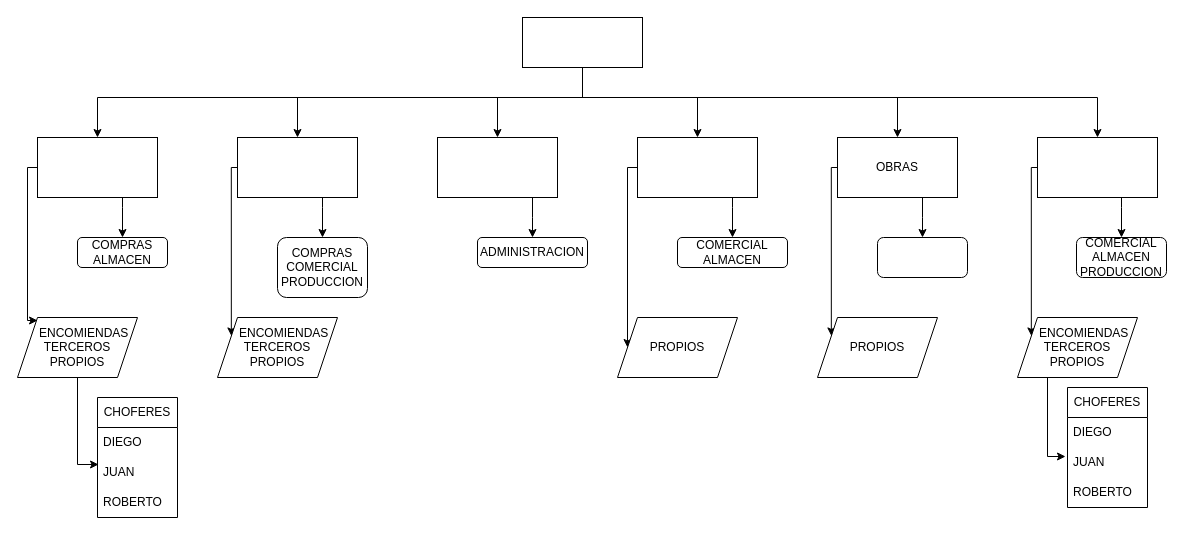
Some shapes in this 1184 by 535 pixel diagram are drawn without their labels. Each missing label, with the centre of its shape:
ADMINISTACION: the point at 497,167
COMERCIALES: the point at 697,167
DESPACHOS: the point at 1097,167
FLOTA: the point at 297,167
LOGISTICA: the point at 582,42
PRODUCCION ALMACEN: the point at 922,257
RECEPCIONES: the point at 97,167
